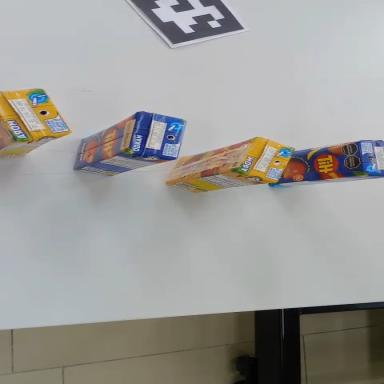HIT-MANGO: (64, 101, 194, 185), (271, 138, 384, 188)
HIT-MORA: (162, 133, 297, 196), (0, 87, 72, 158)
cara_F: (63, 112, 150, 170), (162, 137, 261, 183), (266, 141, 365, 186), (0, 116, 17, 150)
